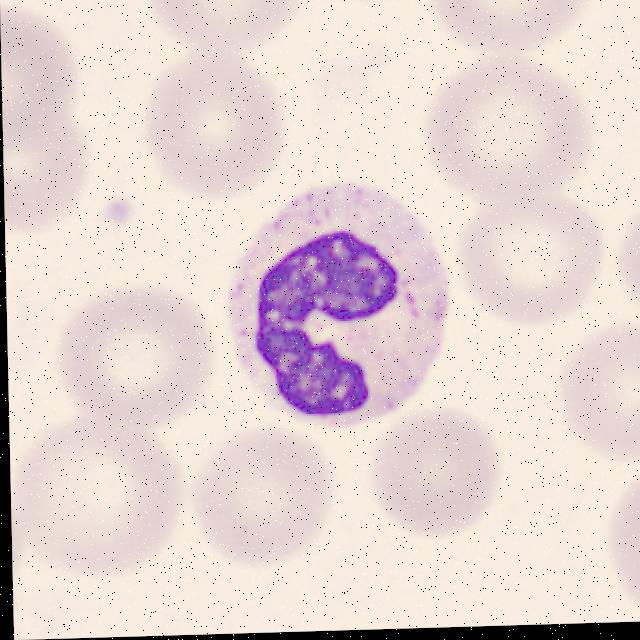neutrophil: (217, 171, 456, 446)
rbc: (417, 52, 611, 209), (14, 413, 188, 580), (137, 43, 298, 198), (62, 282, 219, 425), (457, 177, 607, 324), (187, 422, 329, 568), (364, 399, 499, 537), (0, 4, 96, 151), (2, 93, 98, 228), (144, 0, 317, 71), (561, 321, 640, 471), (432, 0, 621, 55), (590, 455, 640, 622), (617, 195, 640, 320), (303, 0, 432, 13)
